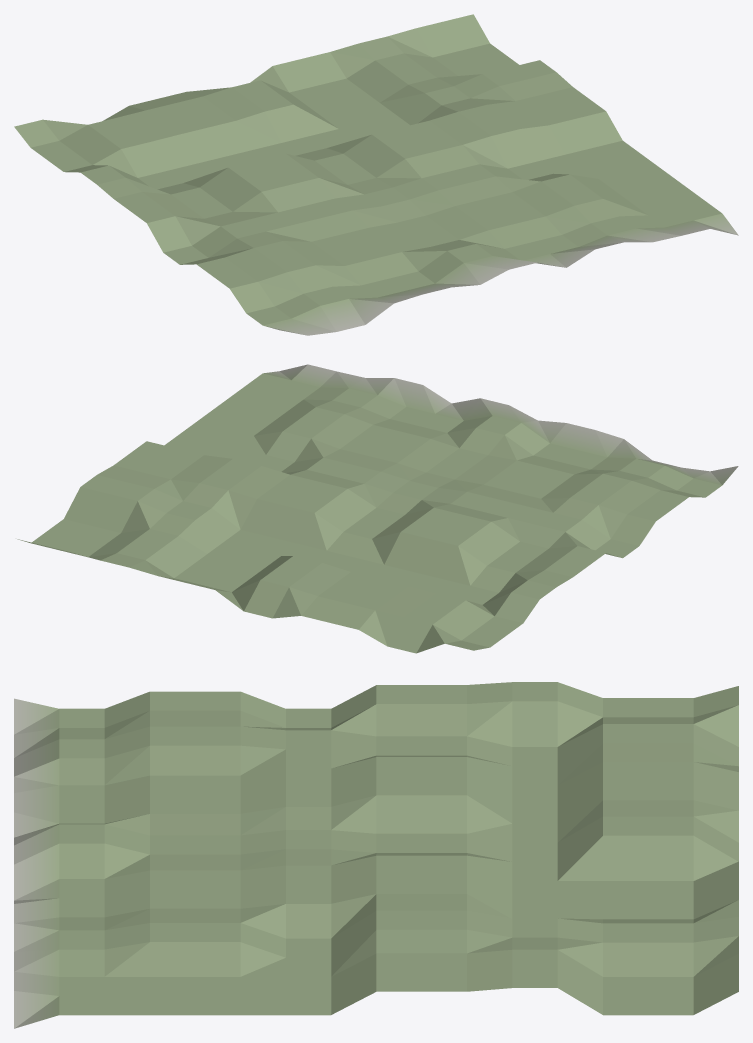
The picture shows the model from 3 angles, top to bottom: view 1: azimuth 30°, elevation 25°; view 2: azimuth 150°, elevation 25°; view 3: azimuth 270°, elevation 25°; orthographic projection. The views are drawn at different scales.
Bounding box in the file's own units: 32 × 2.05 × 32.
